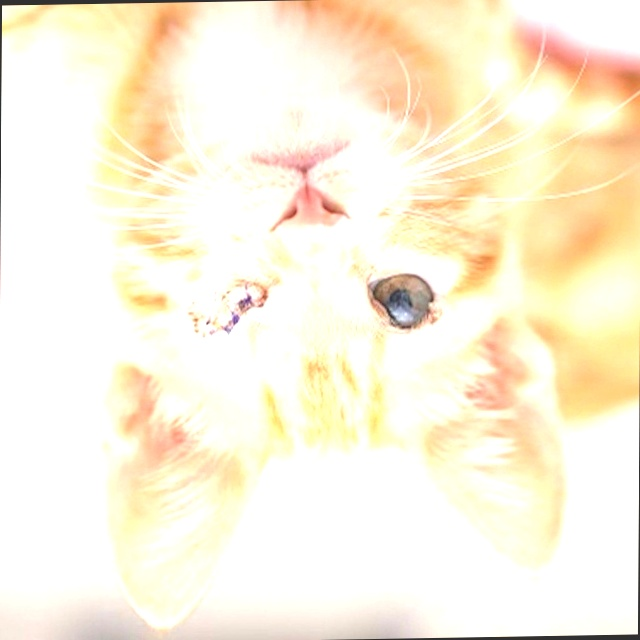eye_infection: (356, 270, 437, 332)
